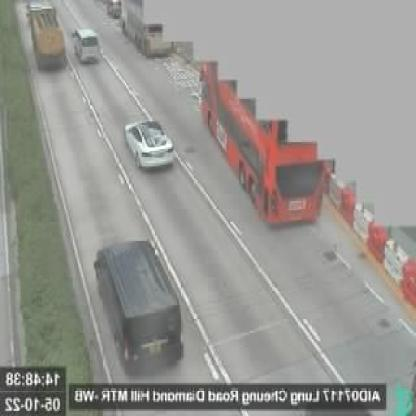Car: (95, 237, 183, 371), (125, 120, 177, 168), (74, 26, 99, 62)
Truck: (27, 2, 65, 69)
